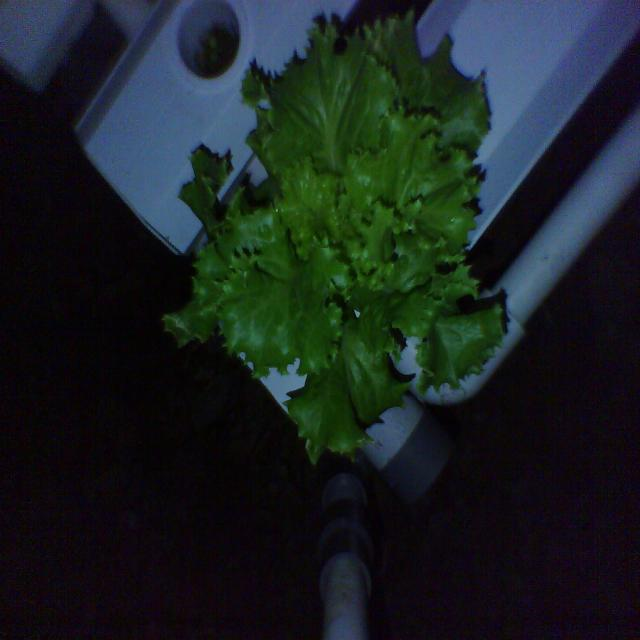FN: (156, 0, 520, 473)
